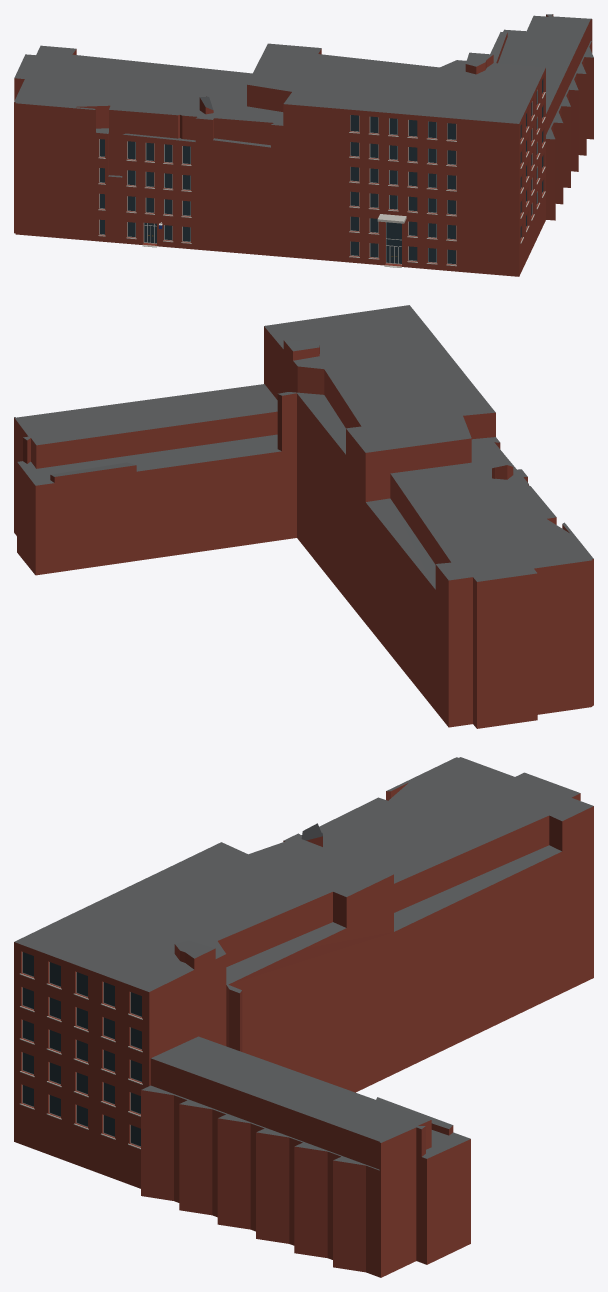
File: recipe-large-politiepost-ijburg.glb
3 views of the same model, one above another, from view 1: azimuth 30°, elevation 25°; view 2: azimuth 150°, elevation 25°; view 3: azimuth 270°, elevation 25° (orthographic). The views are drawn at different scales.
Parts seen in each view (by area): view 1: politiepost-ijburg; view 2: politiepost-ijburg; view 3: politiepost-ijburg.
Boxes of the visible parts, x1,y1,x2,y2 form: politiepost-ijburg: (14, 14, 593, 276); politiepost-ijburg: (14, 305, 593, 728); politiepost-ijburg: (14, 757, 593, 1277).
Size of the model in its own units: 77.65 by 21.83 by 54.46.
